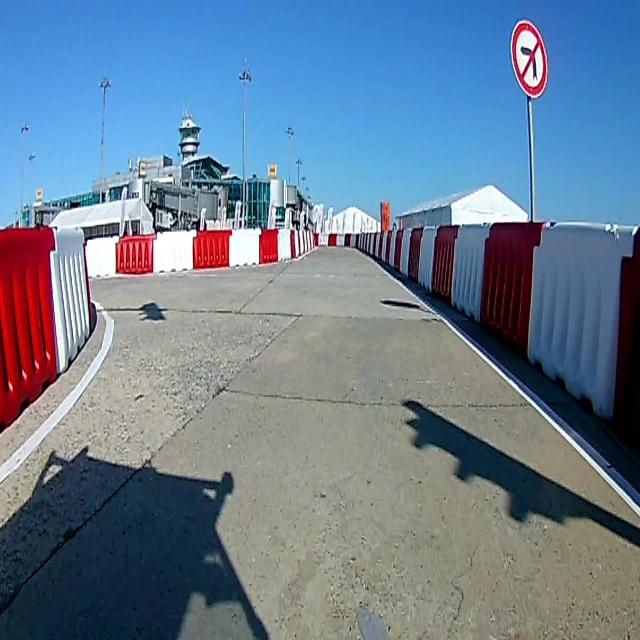soladonulmez: (512, 22, 546, 98)
